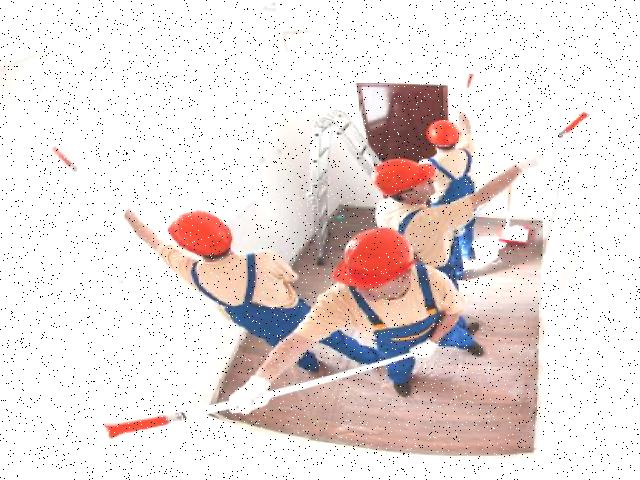Helmet: (329, 224, 422, 293), (165, 206, 237, 258), (374, 152, 440, 199), (425, 117, 465, 148)
